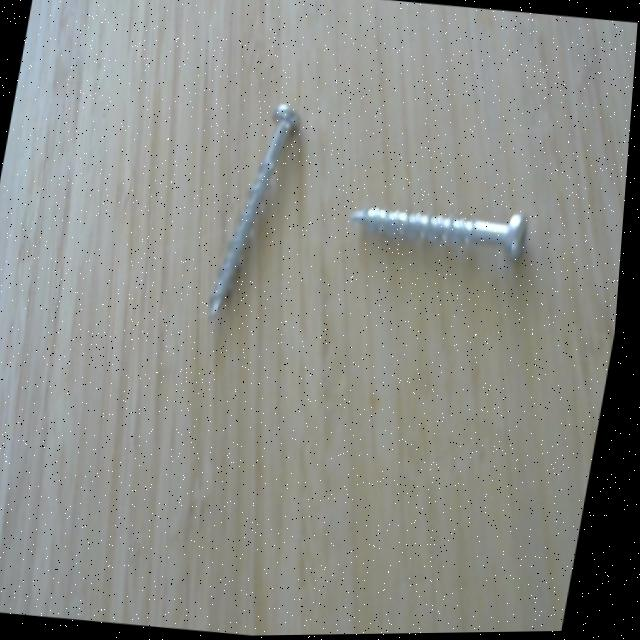Medium screw: (203, 96, 308, 333), (341, 192, 544, 278)
